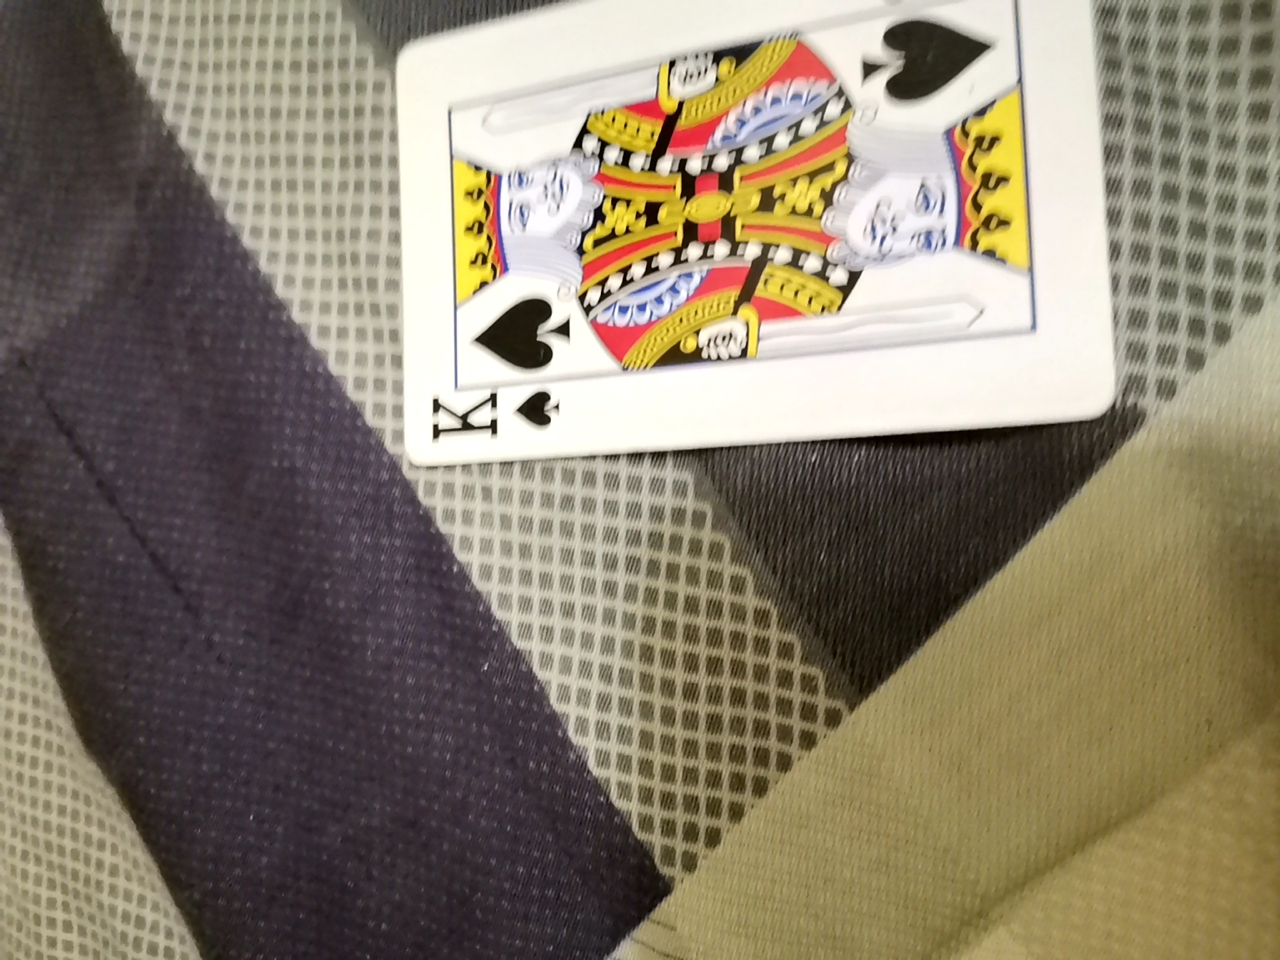ht k: (382, 2, 1131, 449)
